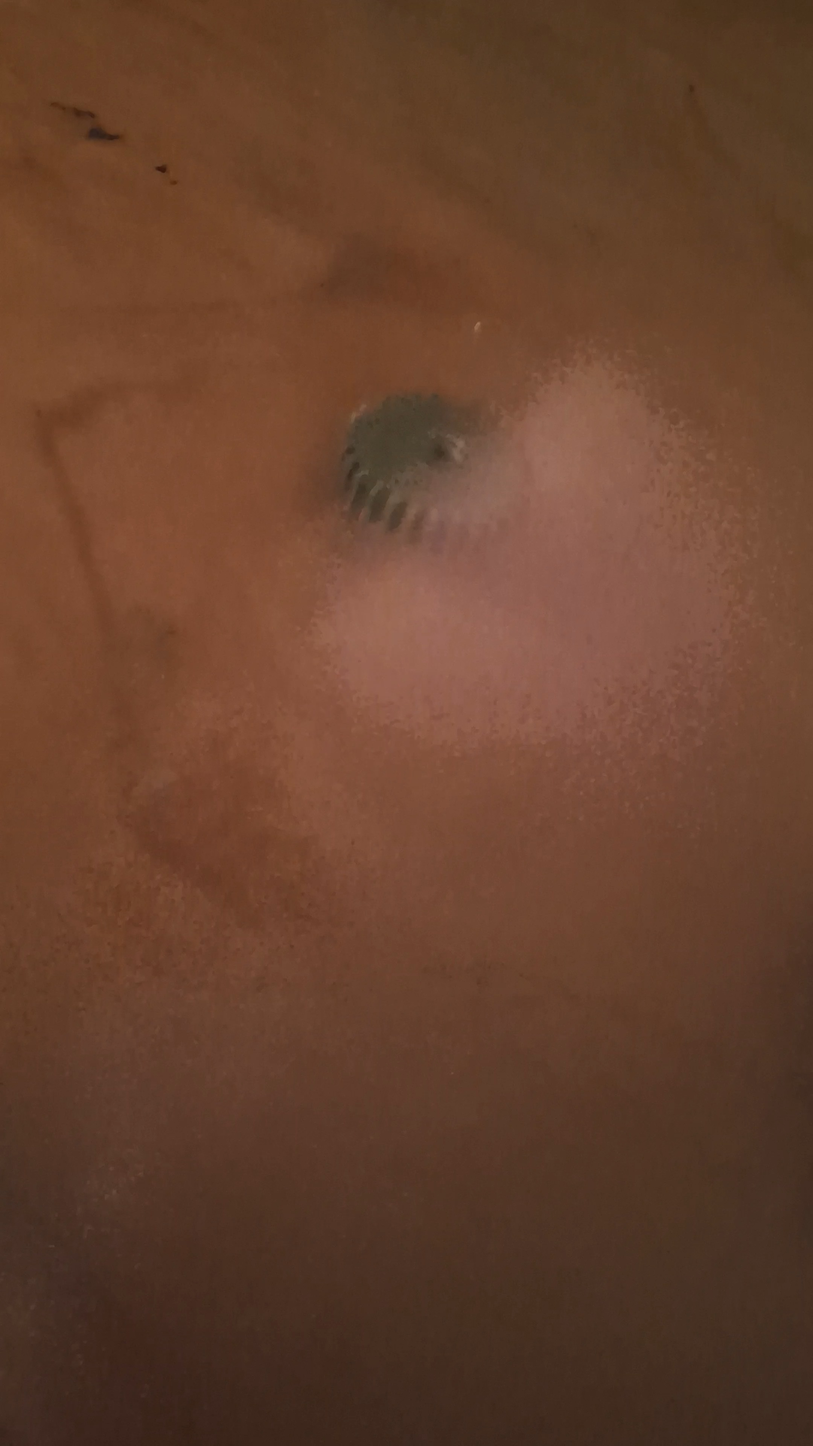spur gear: (340, 392, 495, 540)
